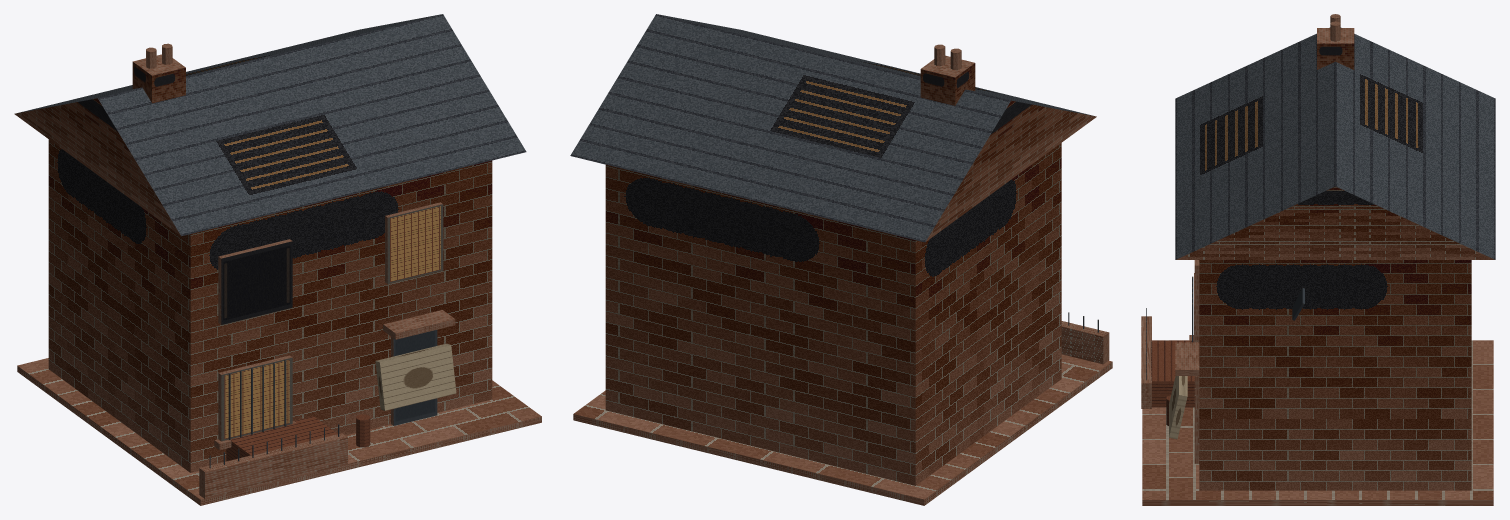
The model's file is building_croydon_traphouse_03.glb.
The picture shows the model from 3 angles, left to right: view 1: azimuth 30°, elevation 25°; view 2: azimuth 150°, elevation 25°; view 3: azimuth 270°, elevation 25°; orthographic projection. The views are drawn at different scales.
Visible parts, largest first — view 1: Building_Croydon_Traphouse_03; view 2: Building_Croydon_Traphouse_03; view 3: Building_Croydon_Traphouse_03.
Boxes of the visible parts, <box> form: Building_Croydon_Traphouse_03: <box>14,14,541,505</box>; Building_Croydon_Traphouse_03: <box>570,14,1112,505</box>; Building_Croydon_Traphouse_03: <box>1141,14,1495,505</box>.
Size of the model in its own units: 8.7 by 8.9 by 8.08.
Materials: 1 (1 with a texture image).
